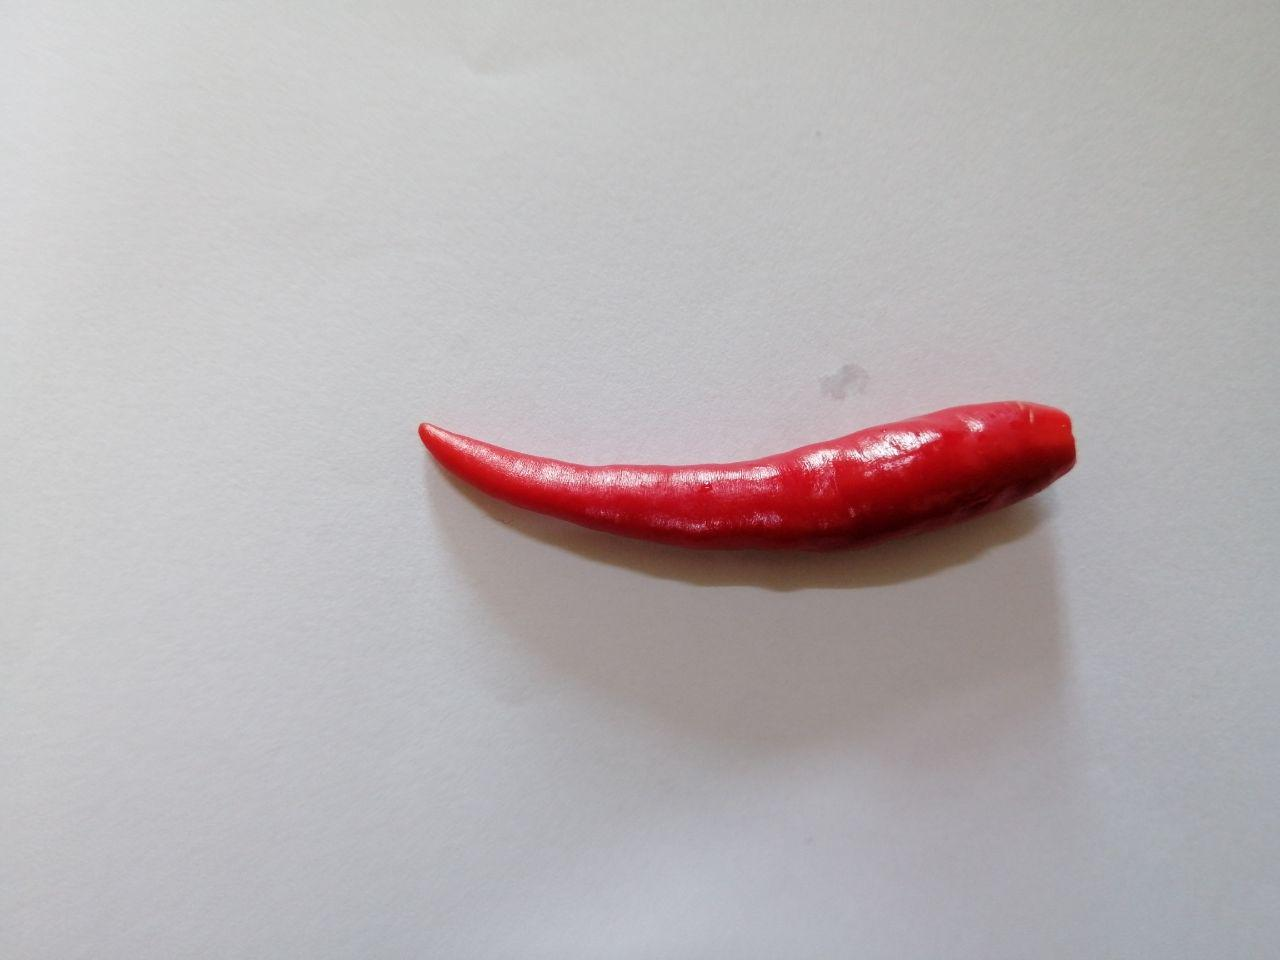lada merah: (406, 371, 1099, 571)
